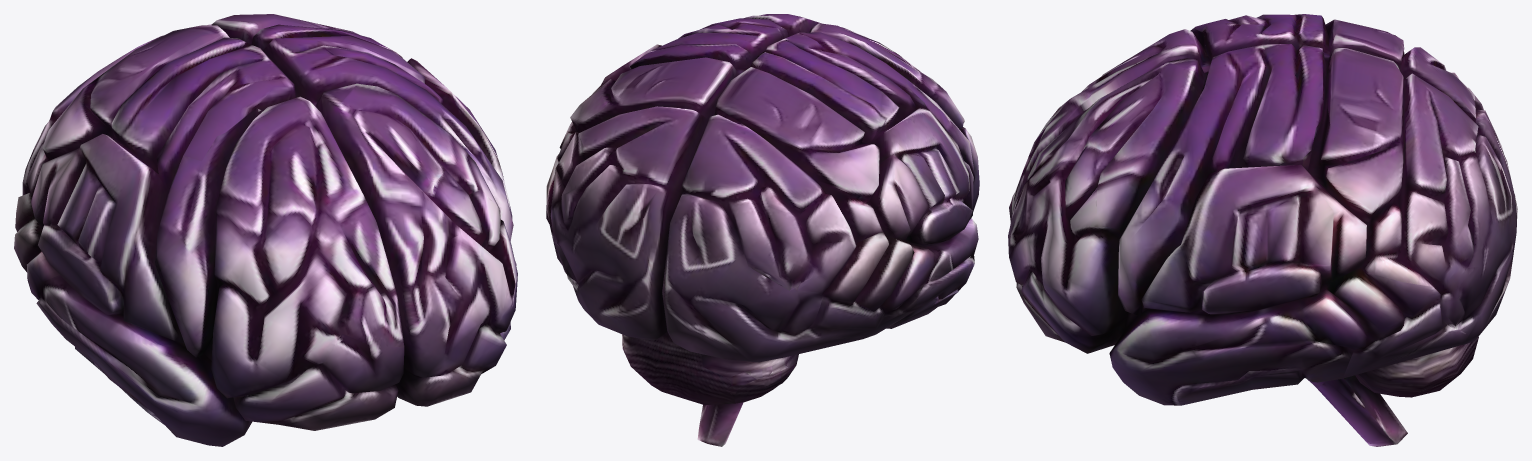
The model's file is brain-node.glb.
3 views of the same model, side by side, from view 1: azimuth 30°, elevation 25°; view 2: azimuth 150°, elevation 25°; view 3: azimuth 270°, elevation 25° (orthographic). The views are drawn at different scales.
Parts seen in each view (by area): view 1: model; view 2: model; view 3: model.
Part boxes in pixels (box(x1,y1,x2,y2)): model: box(14, 14, 517, 446); model: box(546, 14, 979, 446); model: box(1008, 14, 1517, 446).
Size of the model in its own units: 1.66 by 1.61 by 1.83.
Materials: 1 (1 with a texture image).
